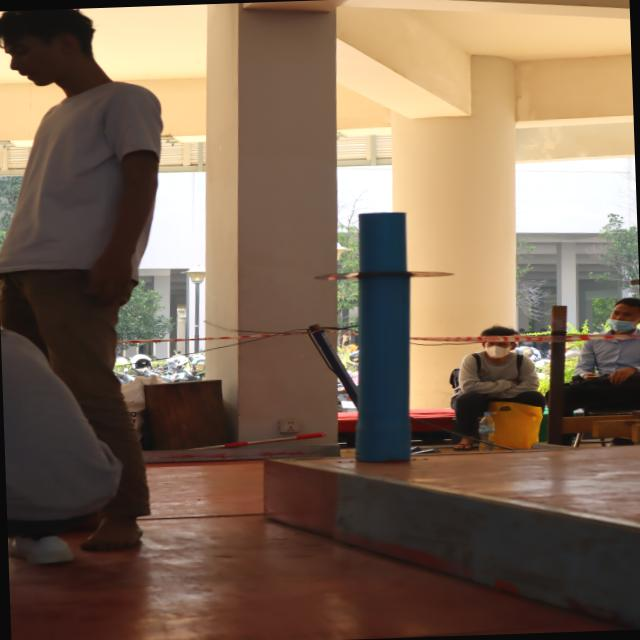pole: (320, 210, 454, 321)
